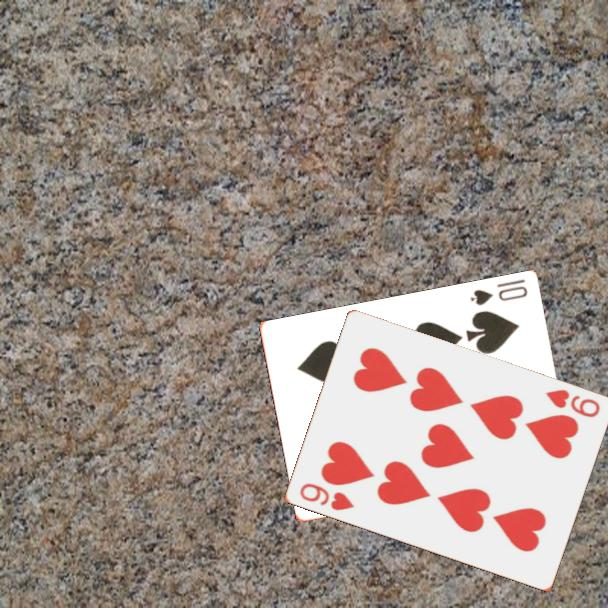h09: (542, 386, 602, 421), (296, 480, 357, 514)
s10: (467, 276, 530, 309)
